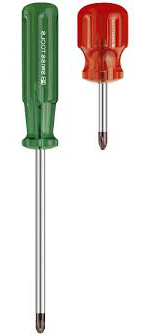Screwdriver: (11, 3, 66, 335), (73, 3, 129, 159)
